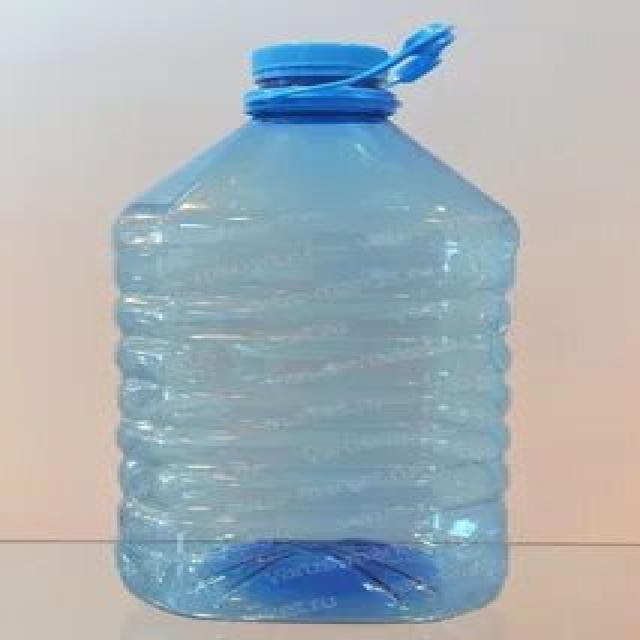blue: (110, 115, 506, 622)
